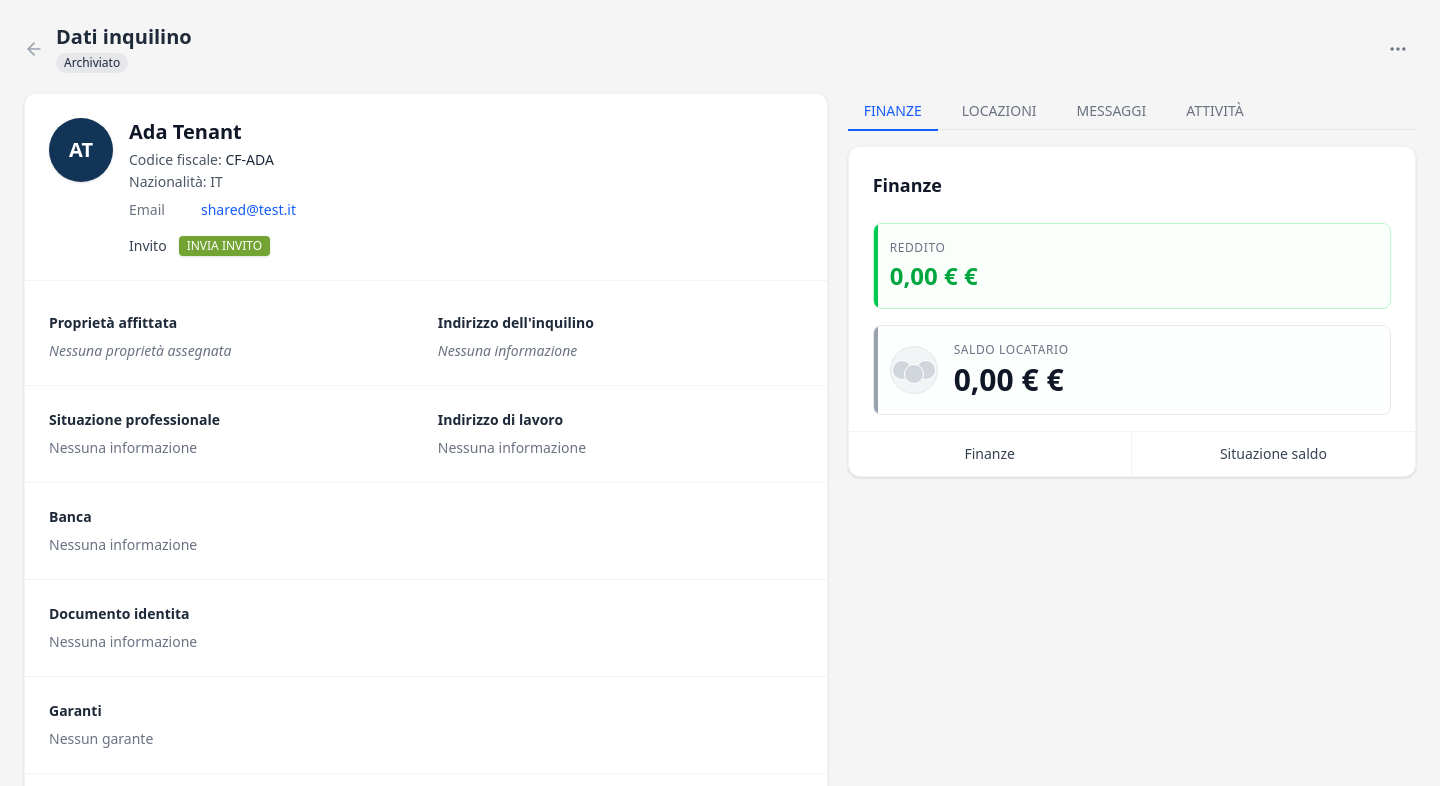
Test: C5.4 lifecycle reale TenantDetailPage › remount conserva archive e restore persiste
The image size is (1440, 786).
Expected: the text "Archiviato" is shown, x1=56 y1=53 x2=128 y2=73
Click the button named "Azioni".
click(1398, 48)  # box x1=1380 y1=30 x2=1416 y2=66
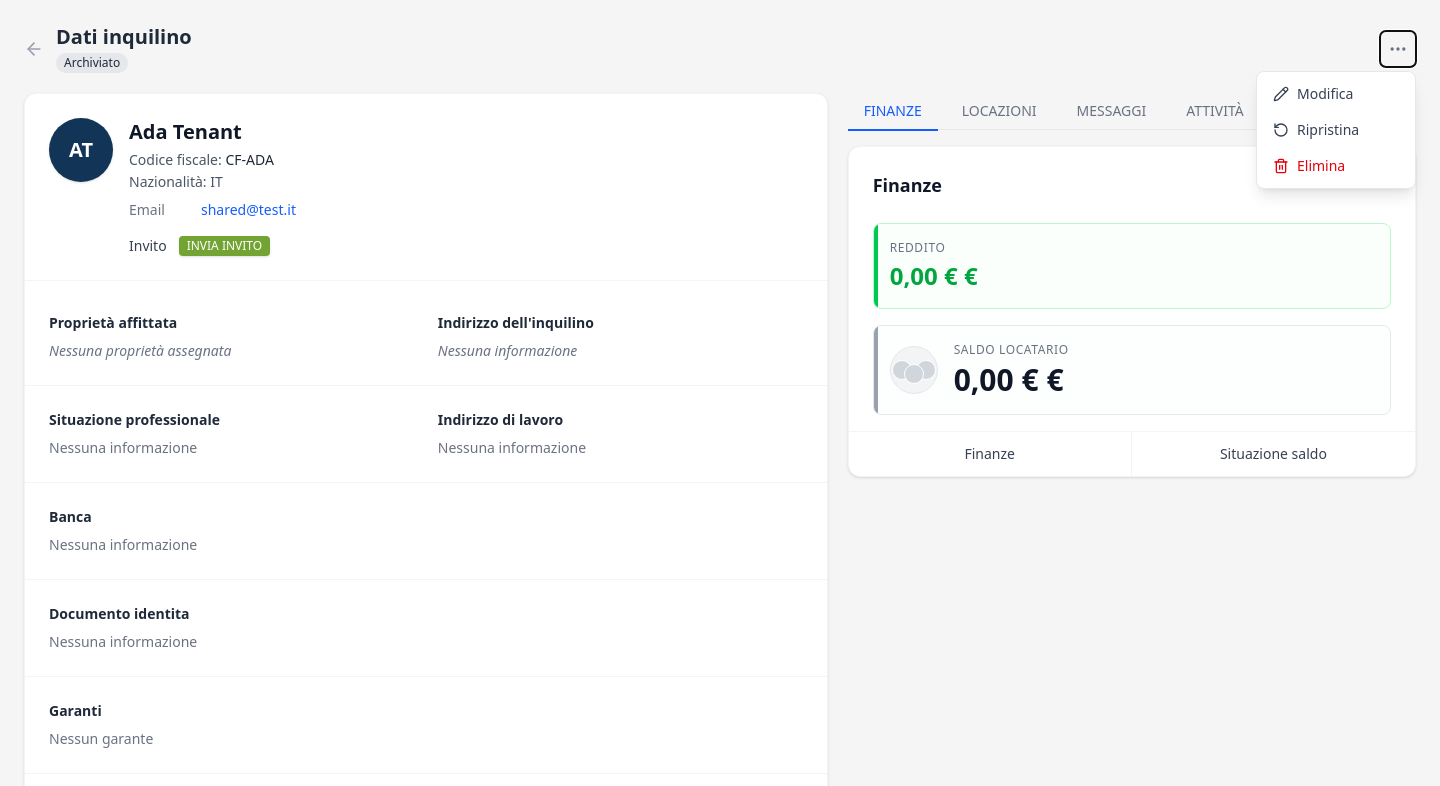
Click the button "Ripristina".
click(1336, 130)  # box x1=1257 y1=112 x2=1415 y2=148
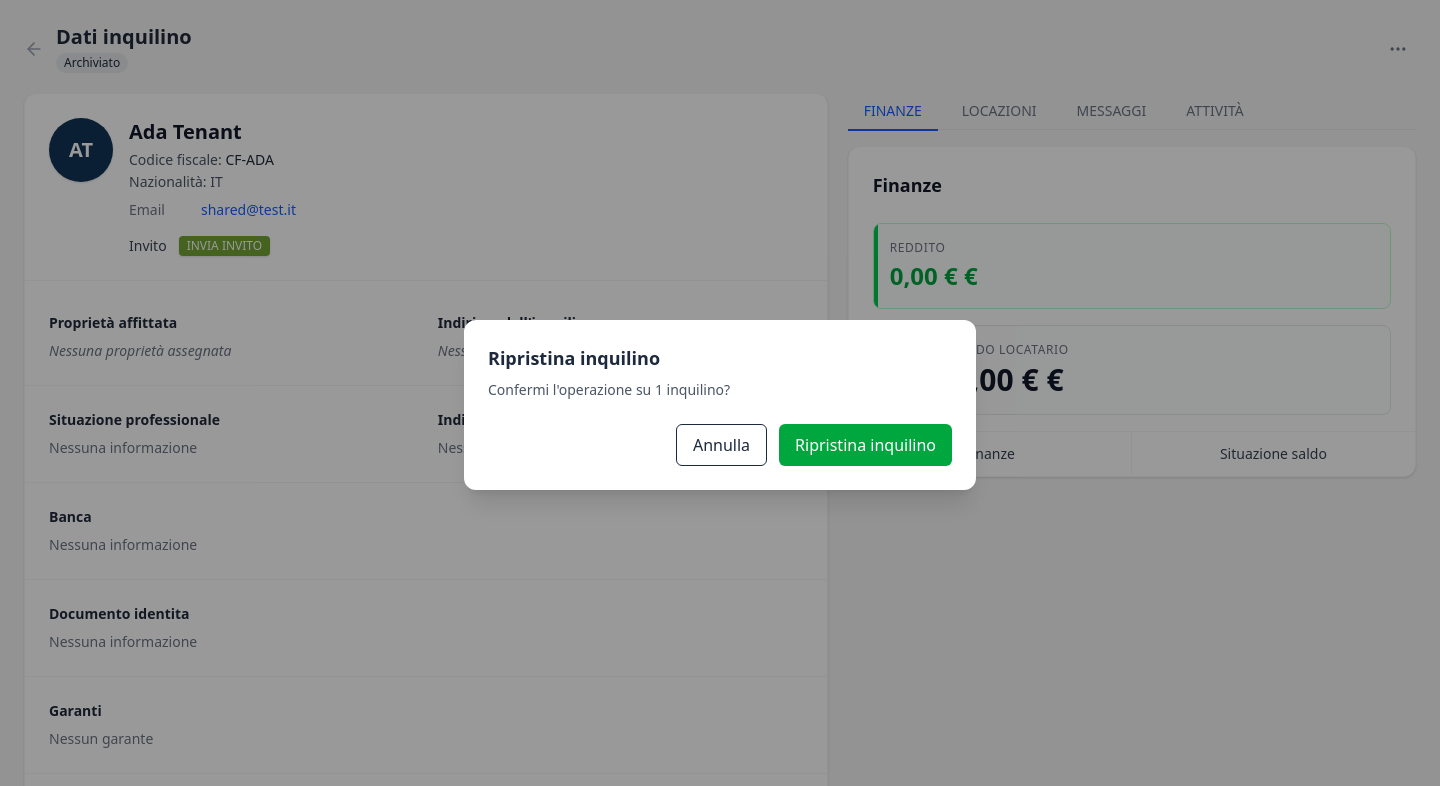
Click the button "Ripristina inquilino".
click(866, 445)  # box x1=779 y1=424 x2=952 y2=466
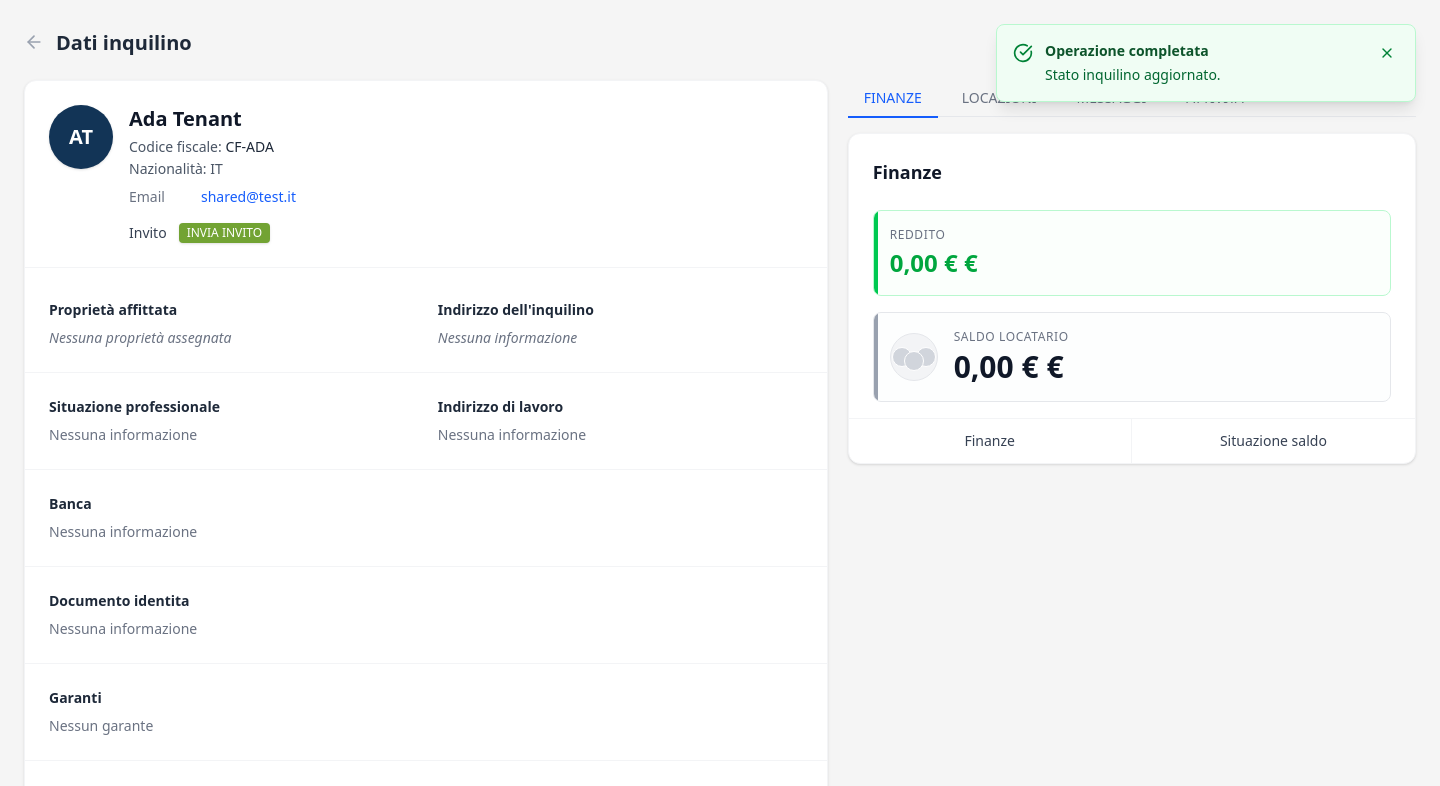
Expected: the text "Archiviato" is gone
